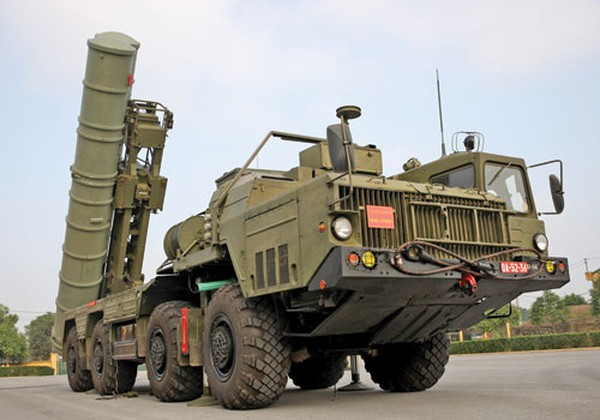plate: (499, 258, 532, 275)
